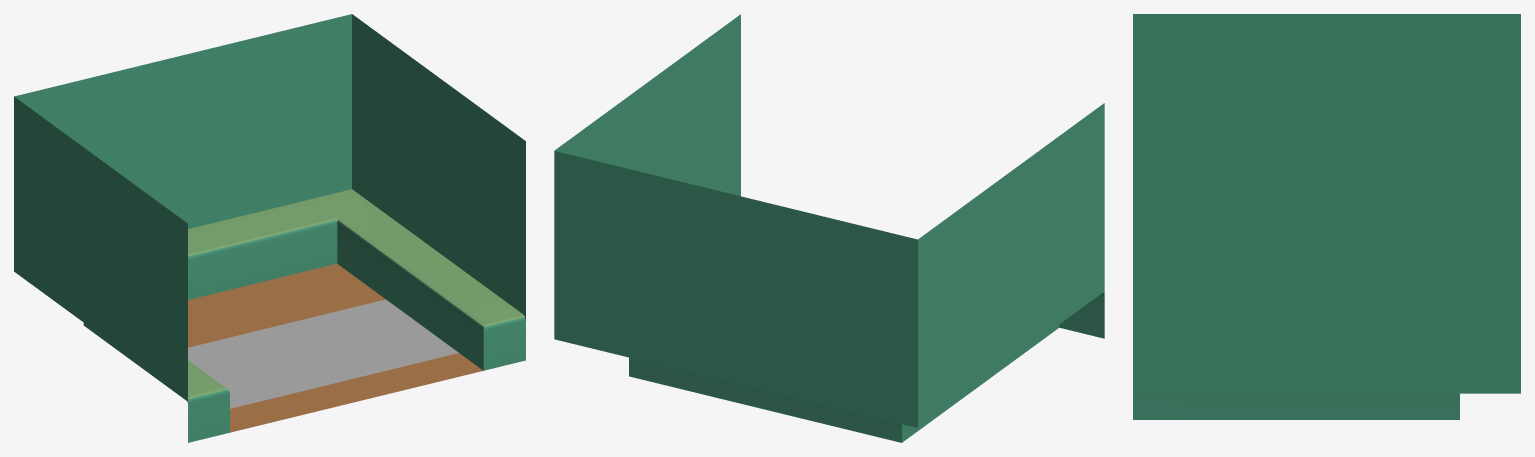
Rendered from RB_CourtDesign_V03.fbx.
The picture shows the model from 3 angles, left to right: view 1: azimuth 30°, elevation 25°; view 2: azimuth 150°, elevation 25°; view 3: azimuth 270°, elevation 25°; orthographic projection. The views are drawn at different scales.
Visible parts, largest first — view 1: Court; view 2: Court; view 3: Court.
Boxes of the visible parts, x1,y1,x2,y2 form: Court: (14,14,525,442); Court: (554,14,1104,442); Court: (1133,14,1520,419).
Bounding box in the file's own units: 8000 × 4962 × 7120.
